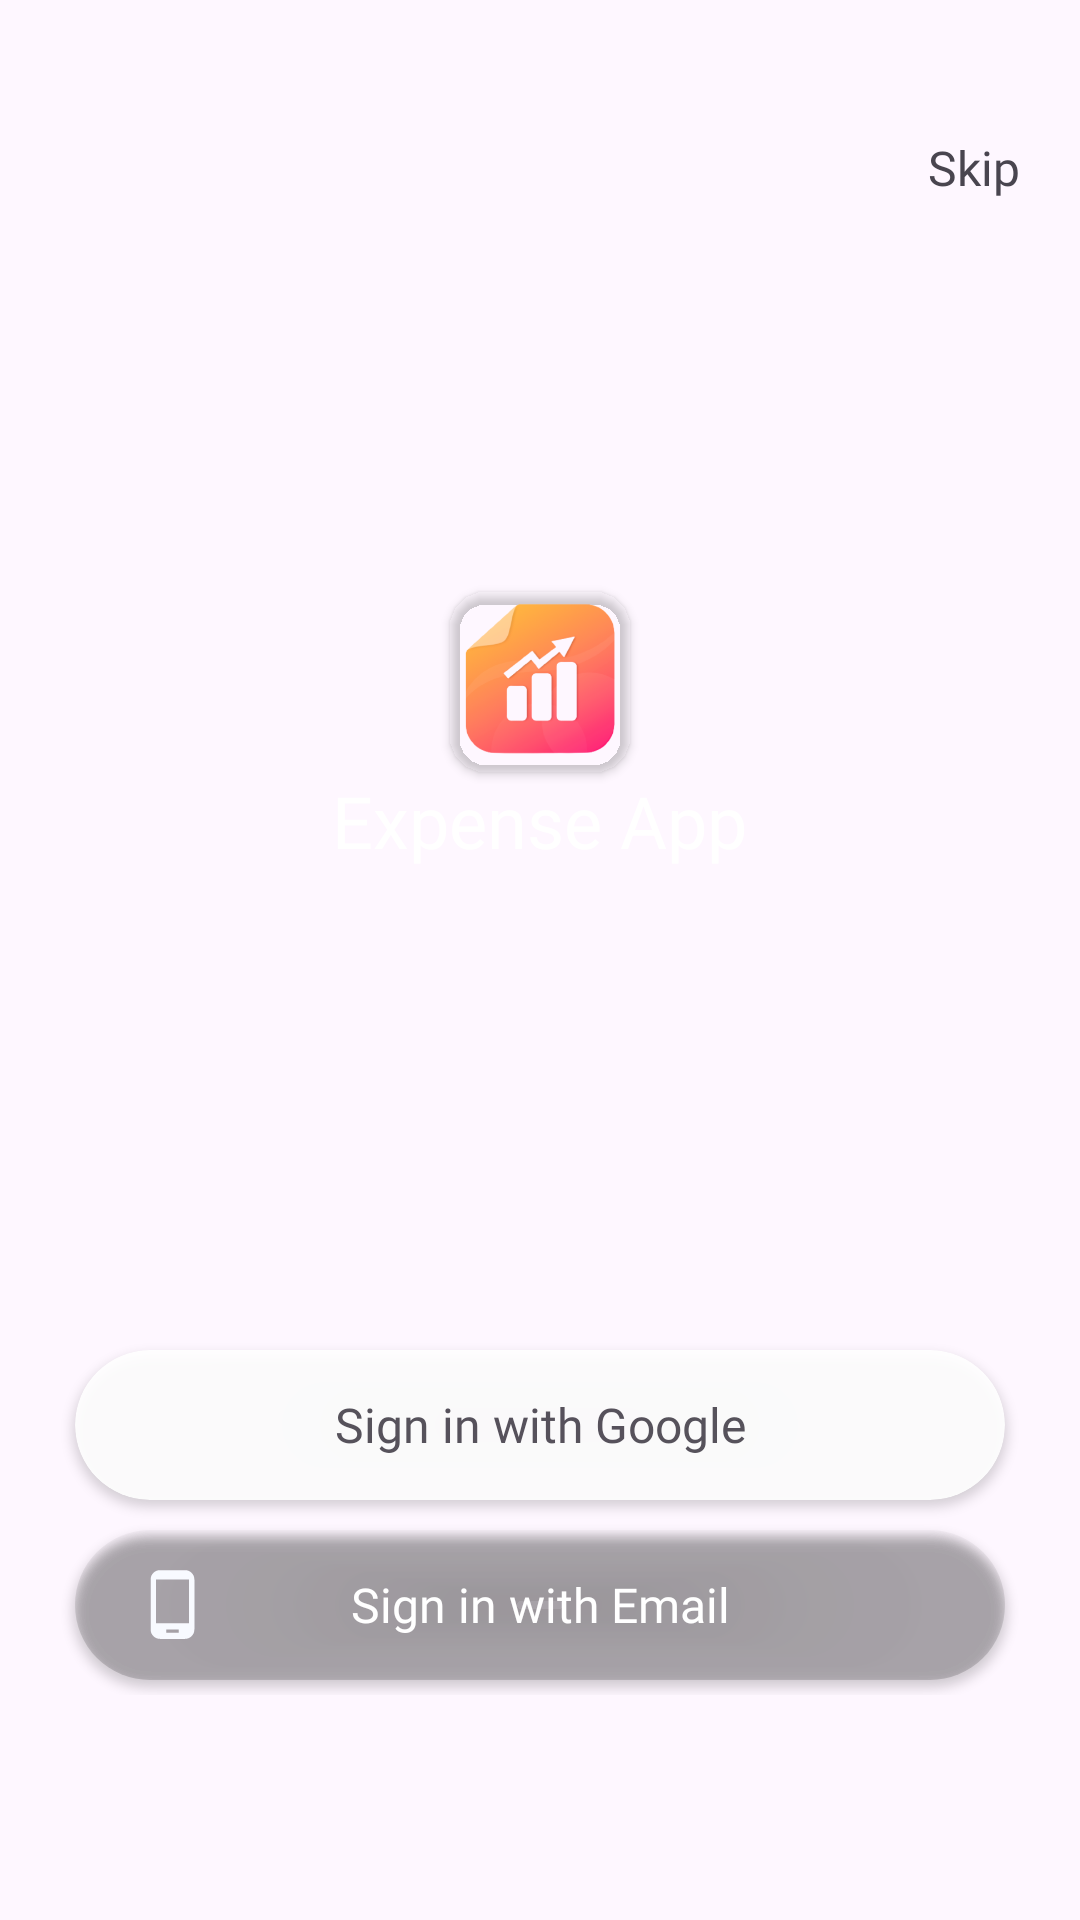

Point at icon controls on the screen. Image size 1080 × 1920, points as [x,y].
phone android: [173,1604]
